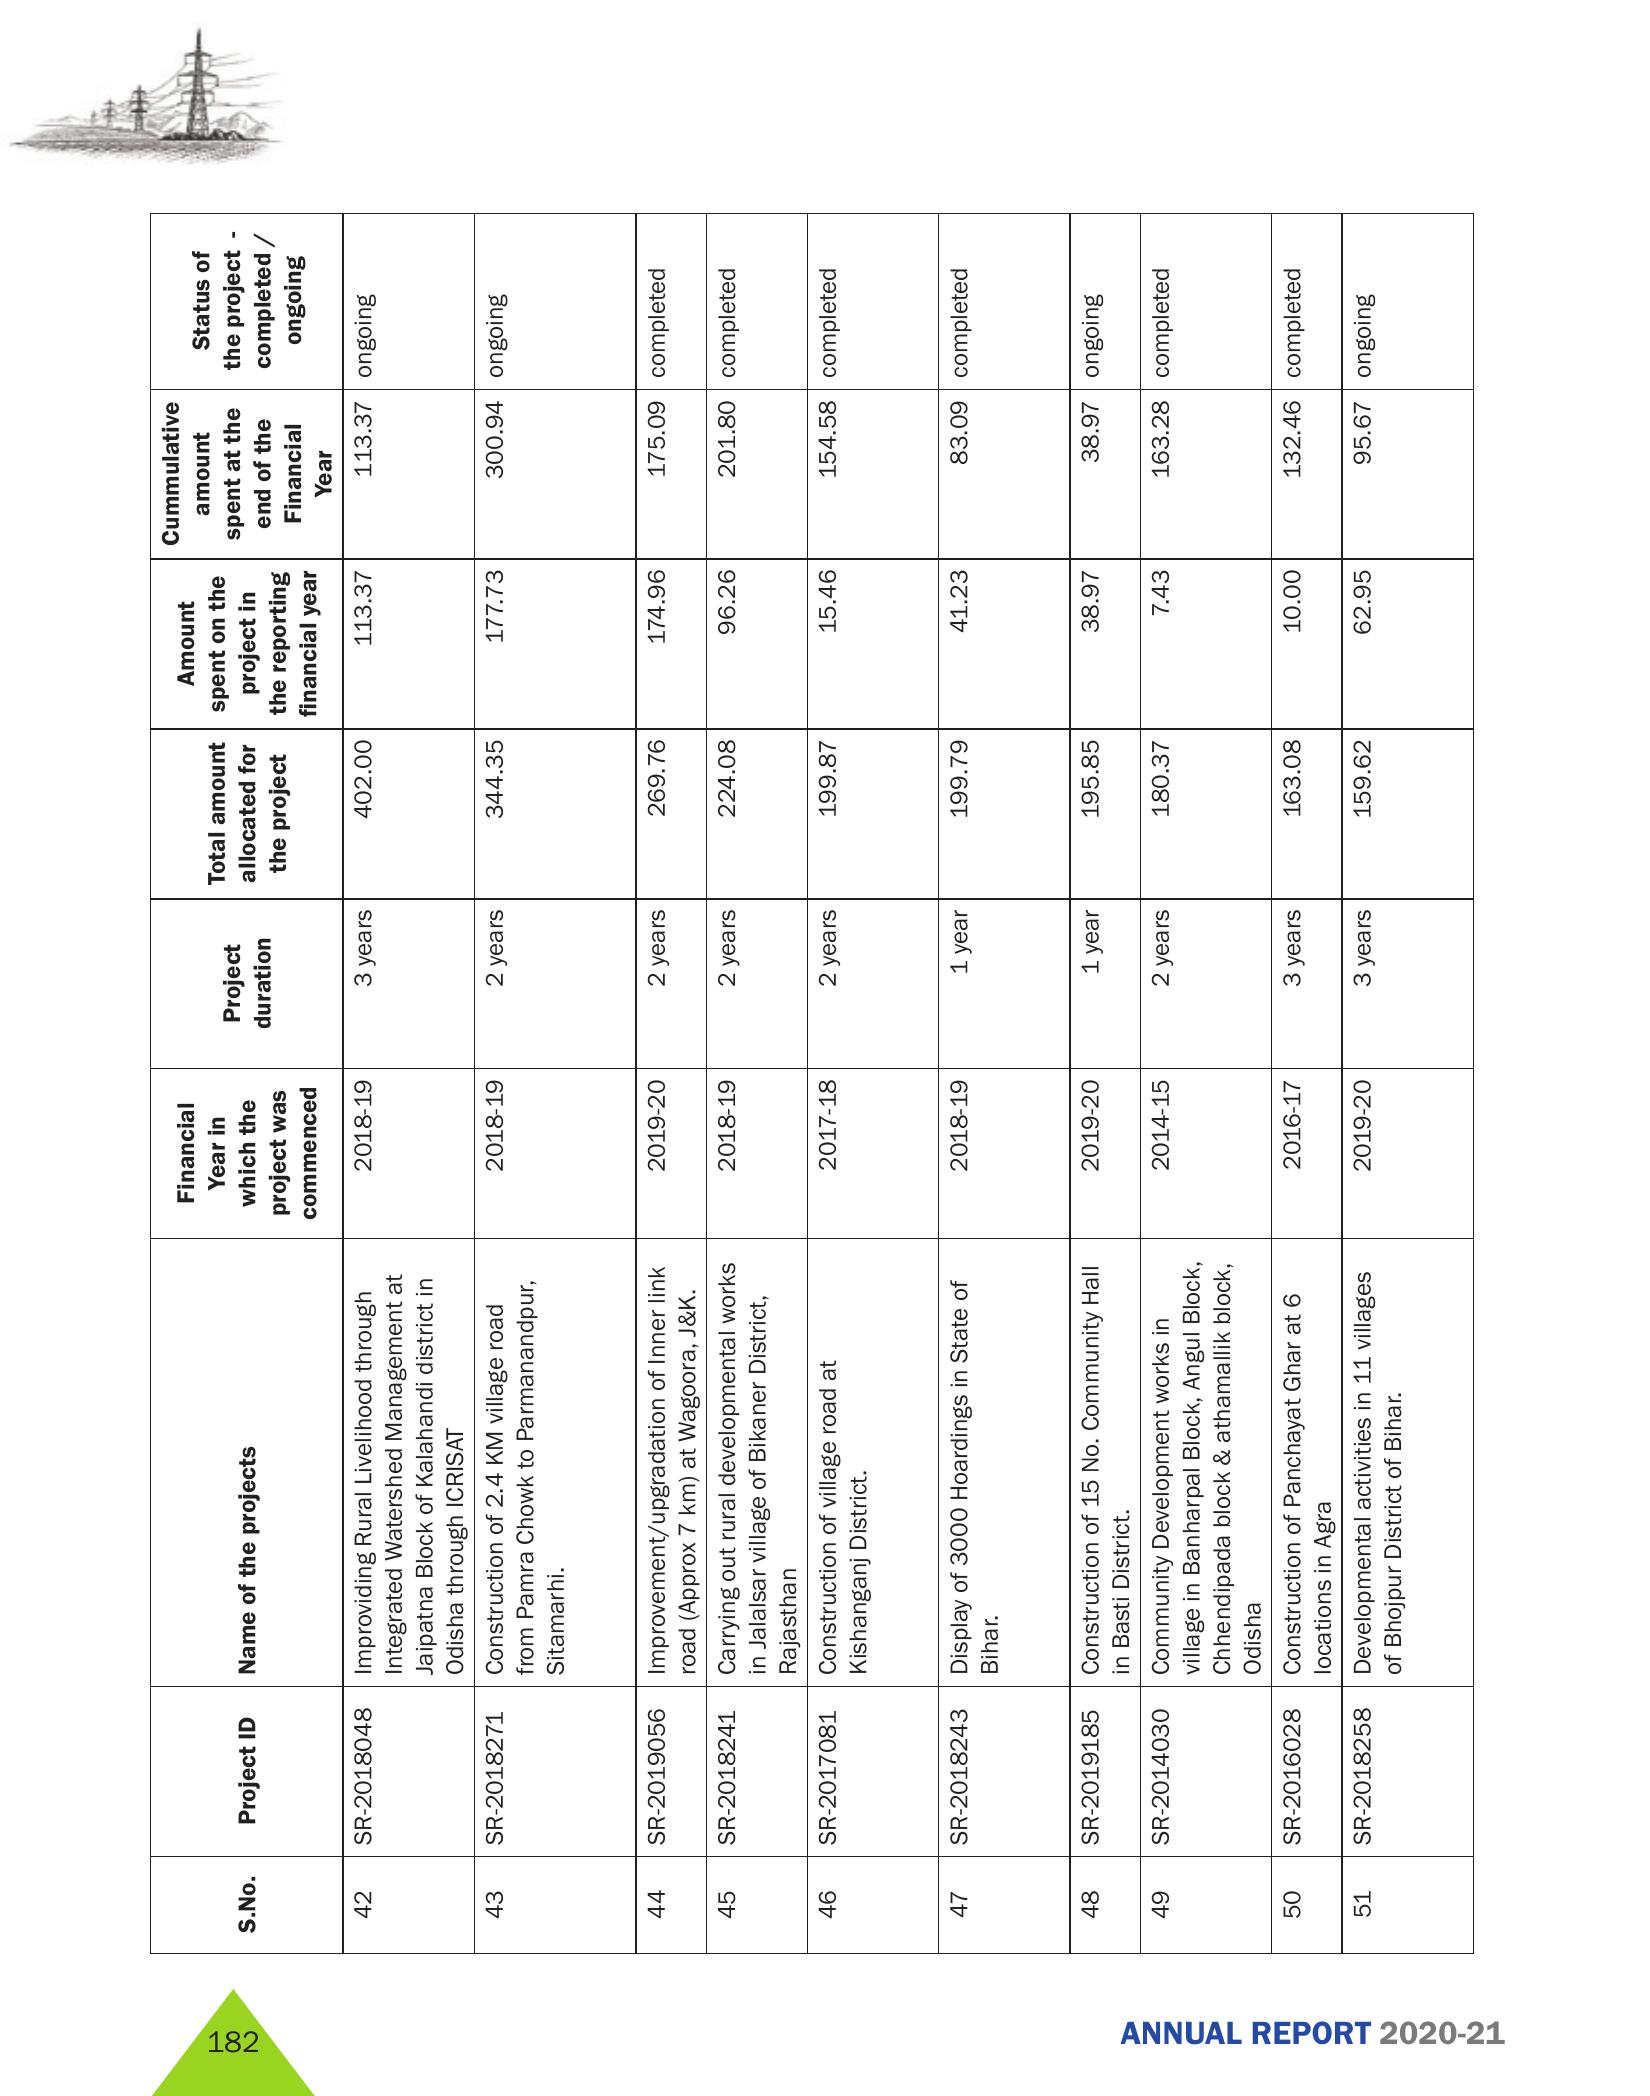Footer: (0, 1979, 1650, 2096)
Header: (0, 0, 1650, 175)
Table: (102, 218, 1507, 1945)
